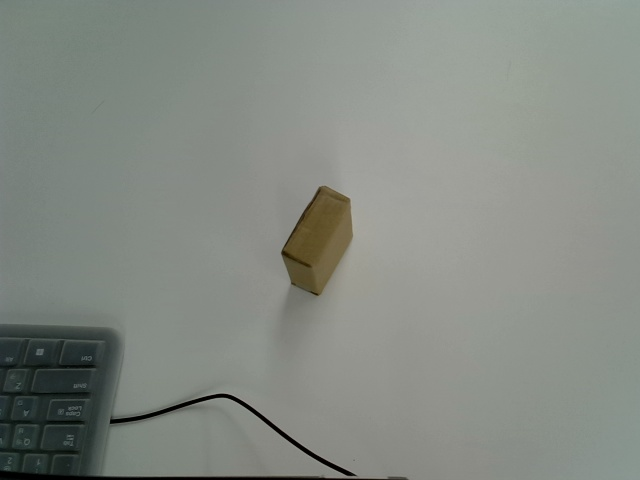normal: (281, 185, 356, 296)
